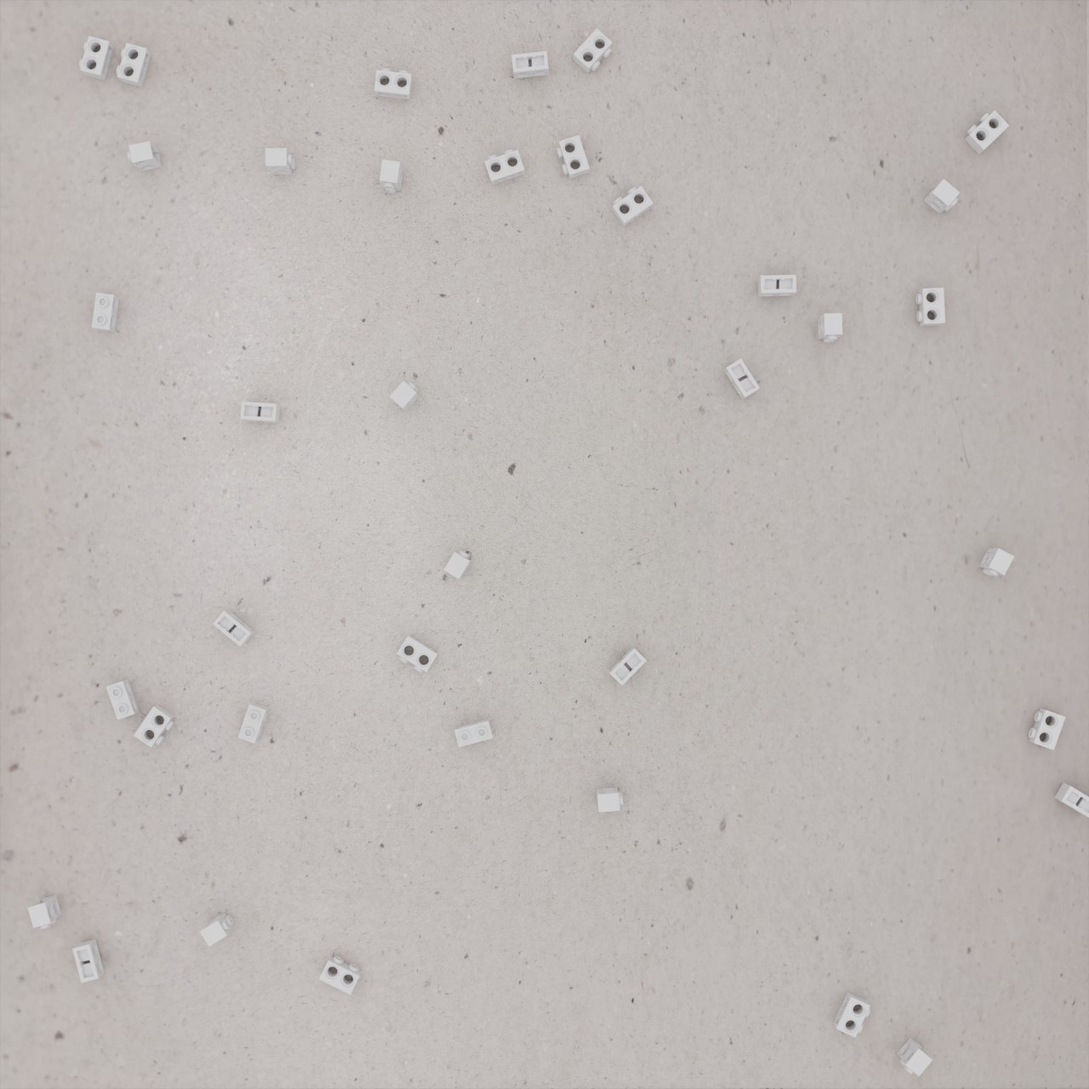lego: (965, 110, 1009, 154), (573, 28, 612, 74), (133, 705, 175, 747), (833, 992, 871, 1038), (612, 186, 653, 227), (319, 956, 362, 995), (396, 635, 439, 673), (1028, 708, 1066, 750), (212, 610, 255, 647), (79, 36, 114, 81), (116, 43, 151, 88), (724, 358, 760, 400), (556, 135, 590, 179), (609, 647, 647, 686), (484, 149, 525, 185), (72, 939, 105, 983), (897, 1037, 933, 1077), (106, 679, 140, 720), (238, 702, 270, 744), (923, 179, 960, 214), (1054, 783, 1089, 819), (374, 68, 413, 100), (199, 912, 234, 947), (28, 895, 62, 929), (454, 719, 494, 747), (92, 293, 120, 333), (916, 288, 945, 326), (511, 51, 549, 79), (127, 141, 162, 171), (979, 548, 1015, 577), (389, 381, 420, 412), (240, 401, 280, 423), (758, 275, 797, 297), (265, 148, 296, 175), (379, 159, 403, 193), (444, 550, 472, 579), (818, 313, 843, 343), (596, 787, 623, 812)
